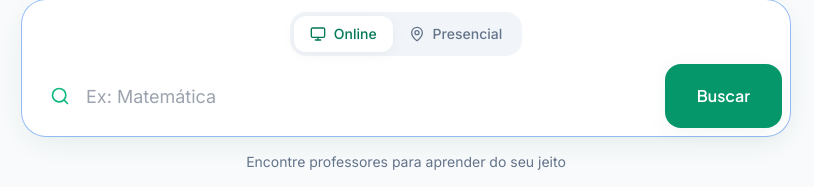
it: HeroSearch › uses non-numeric marketing copy instead of invented tutor counts
Expected: the text "Encontre professores para aprender do seu jeito" is shown, [246,153,566,170]
Click the button "Presencial". click: [455, 34]
box: [393,16,518,52]
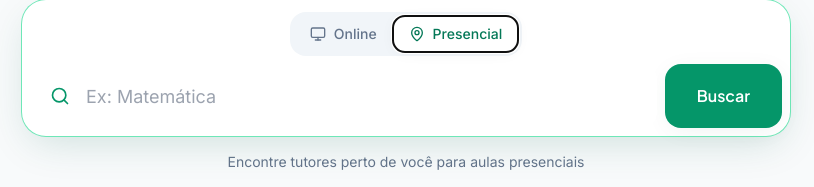
Expected: the text "Encontre tutores perto de você para aulas presenciais" is shown, [228,153,584,170]
